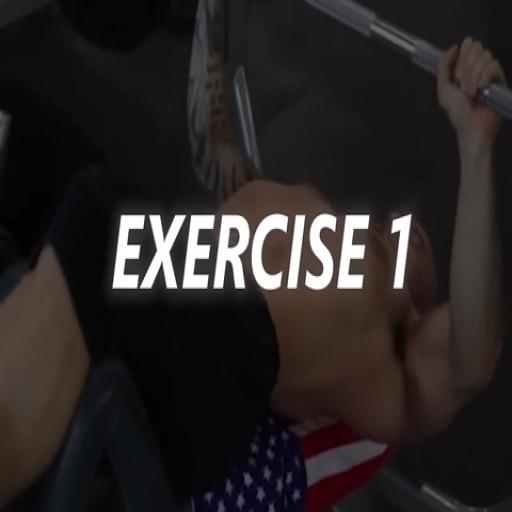exercise: (0, 26, 511, 510)
